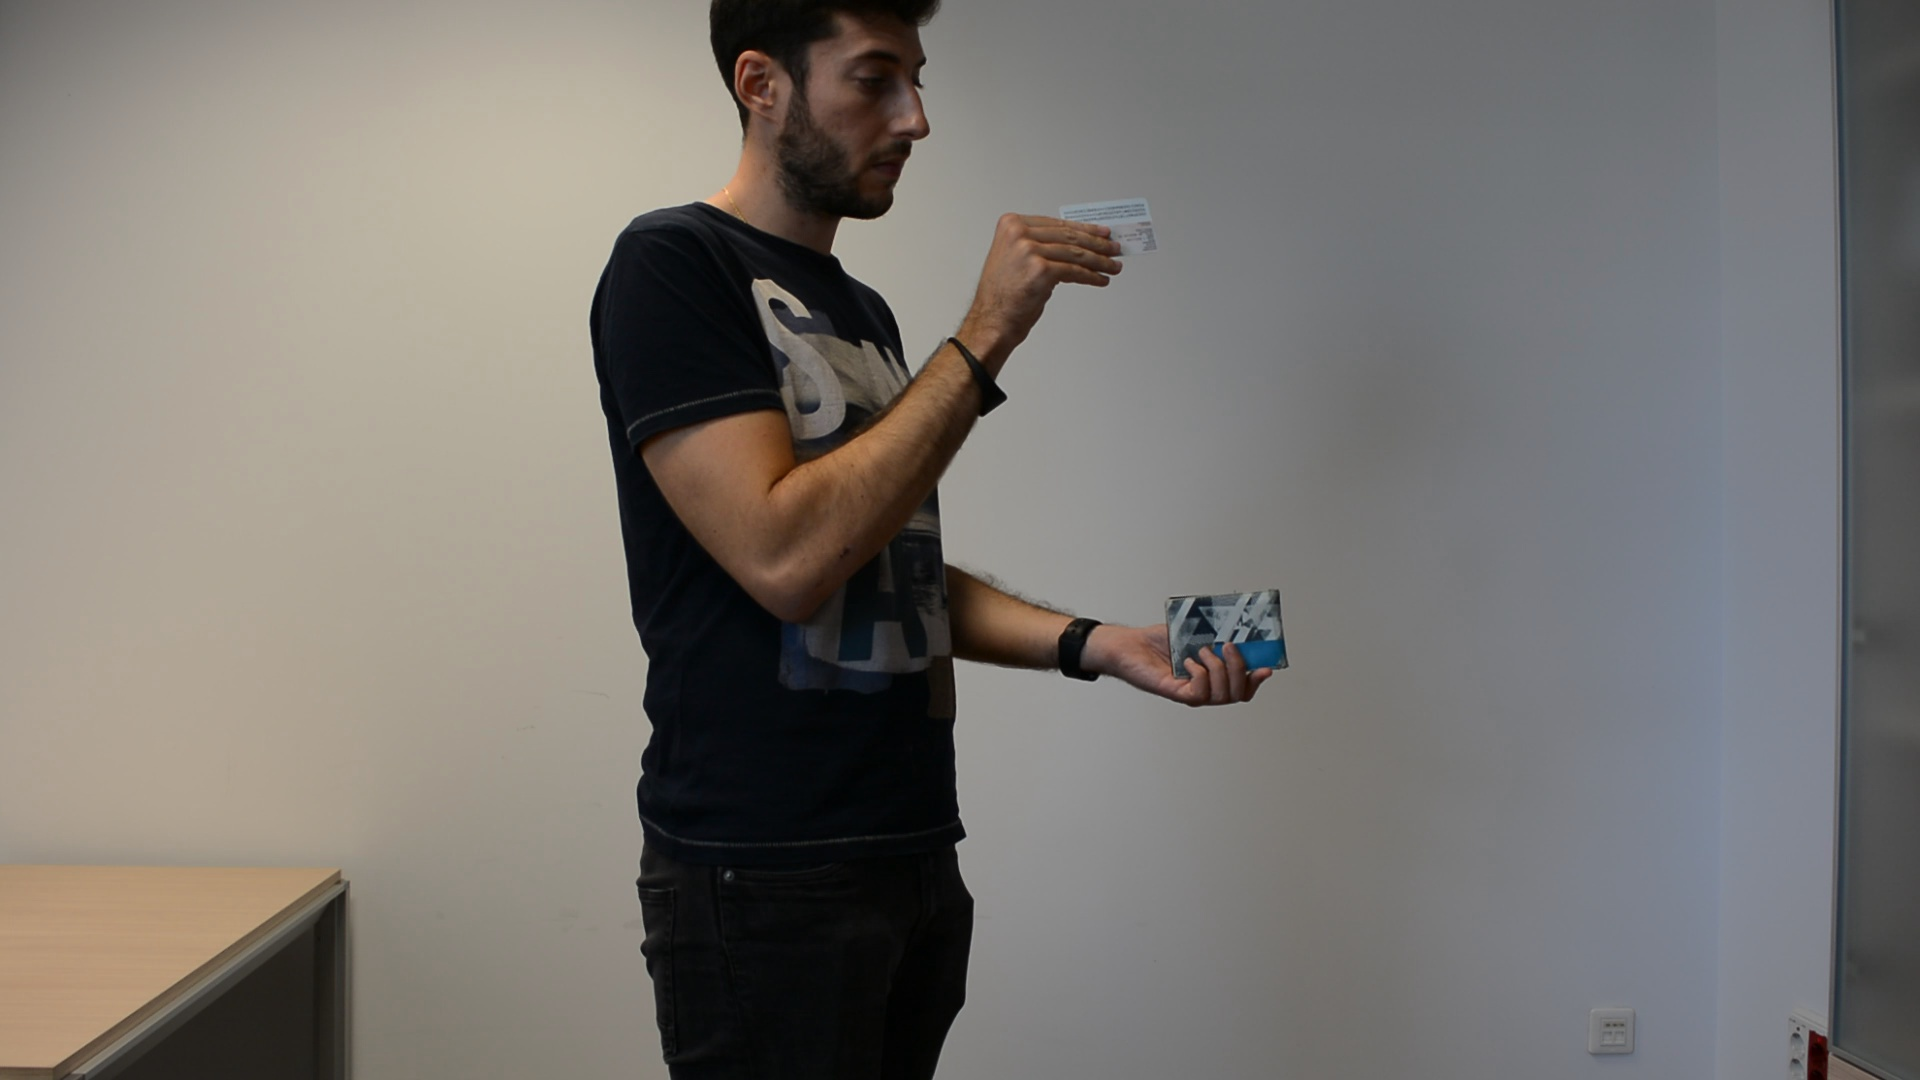monedero: (1158, 582, 1294, 676)
tarjeta: (1056, 194, 1164, 258)
